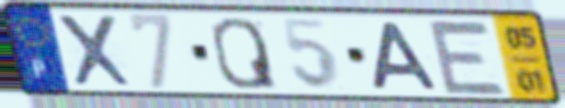5: (279, 16, 344, 92)
7: (126, 10, 178, 92)
A: (370, 20, 444, 92)
E: (423, 16, 511, 97)
Q: (208, 15, 281, 92)
X: (52, 12, 138, 90)
